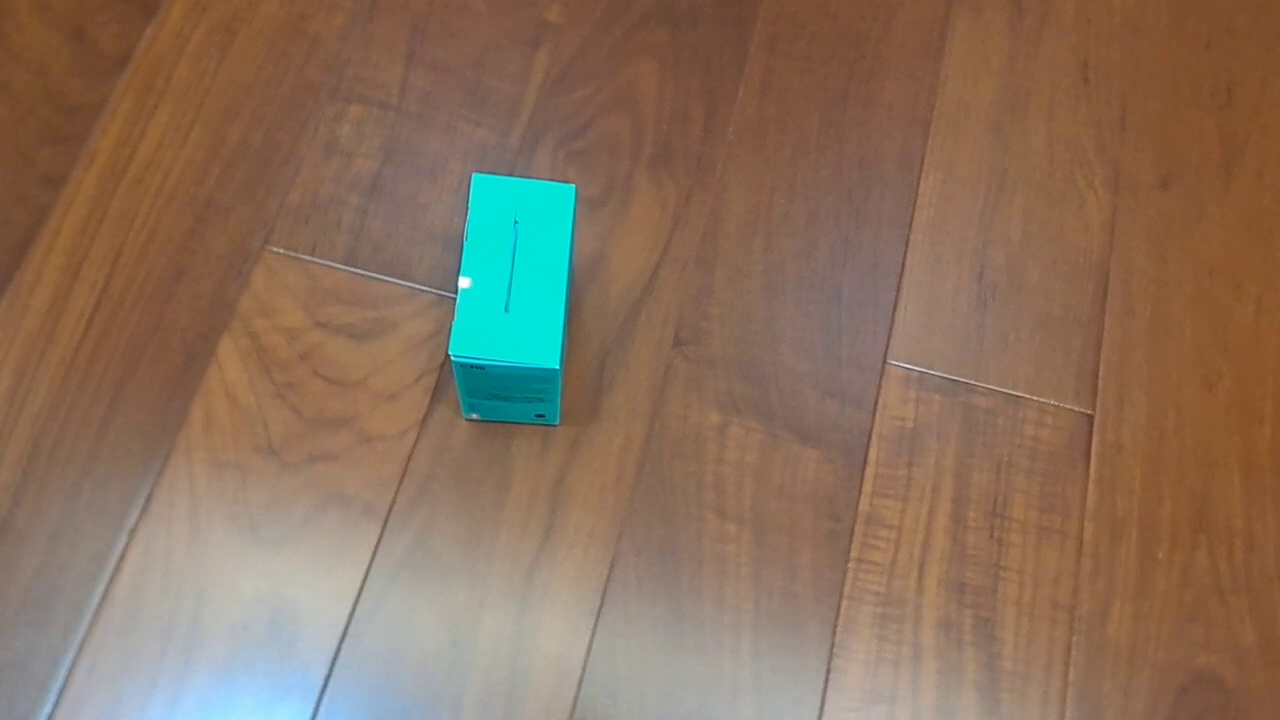webcam: (447, 171, 577, 427)
